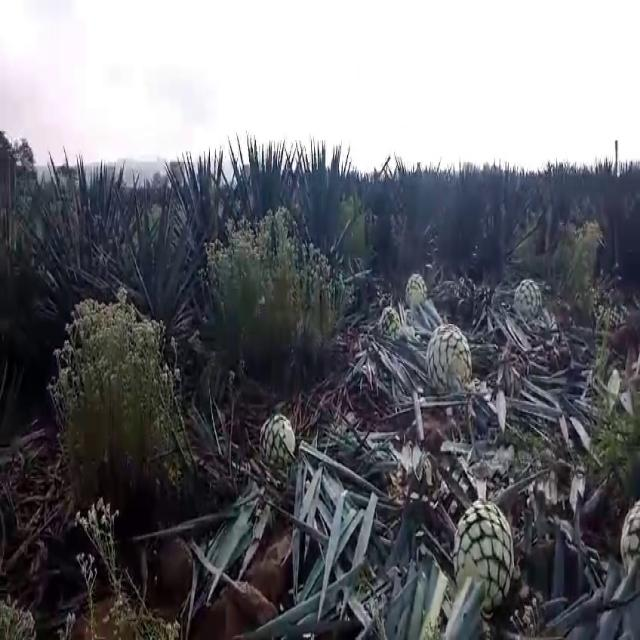agave: (451, 489, 516, 598), (424, 318, 476, 395), (256, 406, 297, 472), (514, 277, 542, 324), (406, 271, 429, 315), (378, 306, 401, 344)
